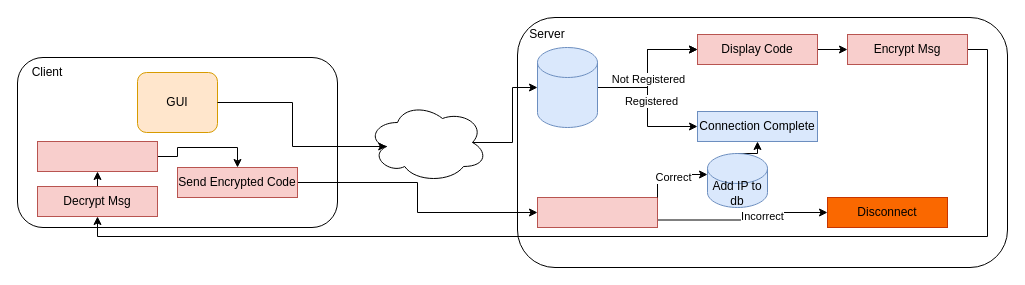
Some shapes in this 1025 by 285 pixel diagram are drawn without their labels. Here are the shapes that lost their labels. From the top down, the centre of each, then its label:
At pixel 567 87: "Check IP".
At pixel 97 156: "Show Code Entry".
At pixel 427 142: "Network".
At pixel 597 212: "Verify Code".
